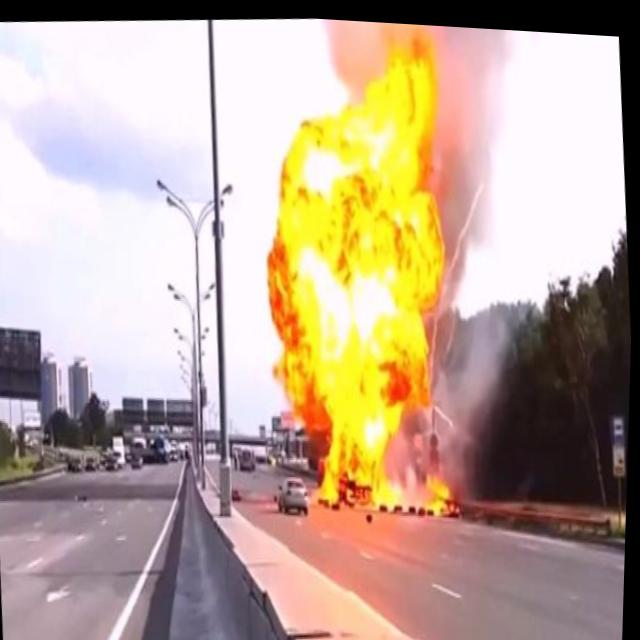fire: (244, 25, 486, 529)
